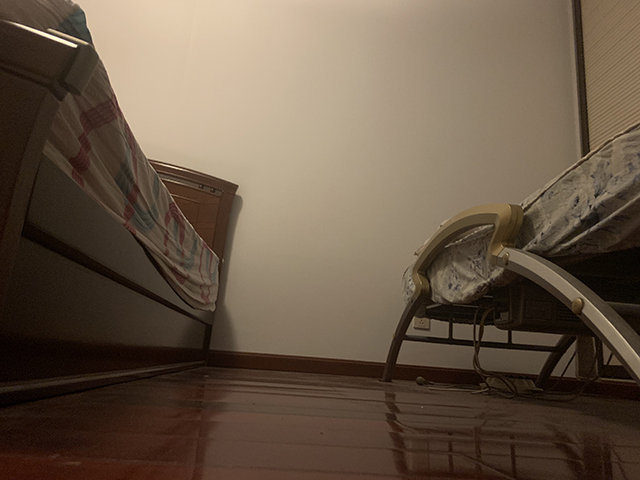bed: (1, 1, 241, 413)
stool: (377, 124, 640, 393), (415, 306, 615, 399)
